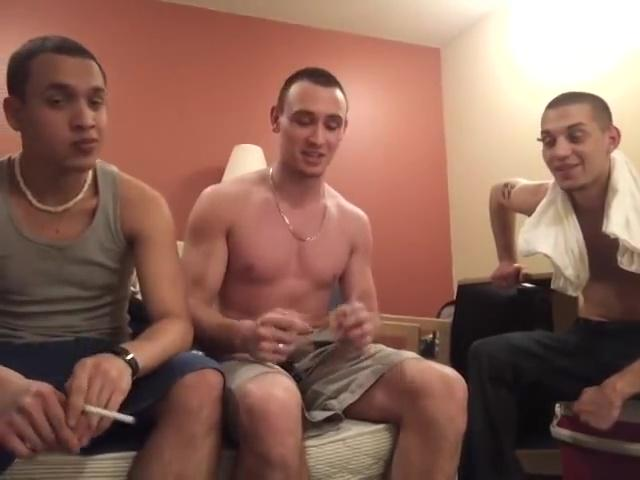cigarette: (75, 403, 139, 427)
